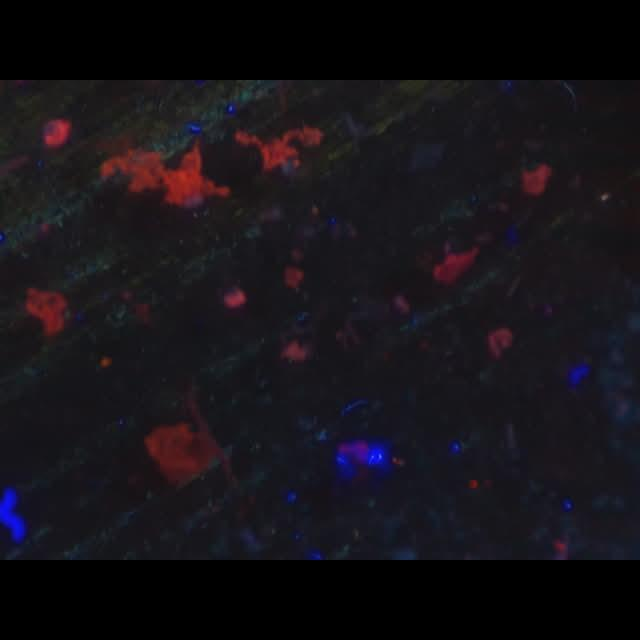Fragment: (233, 126, 325, 174), (26, 286, 68, 338)
